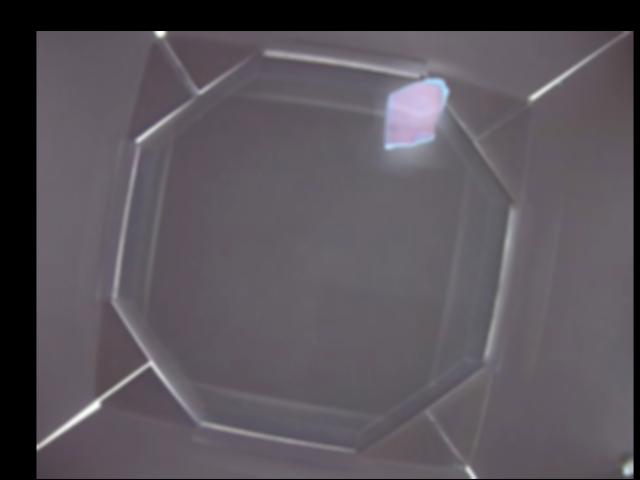China: (379, 77, 452, 153)
